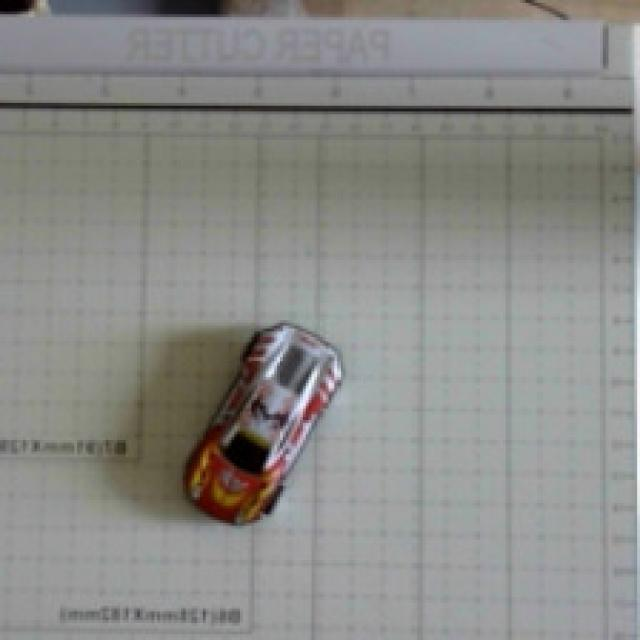Red Car: (172, 297, 388, 557)
